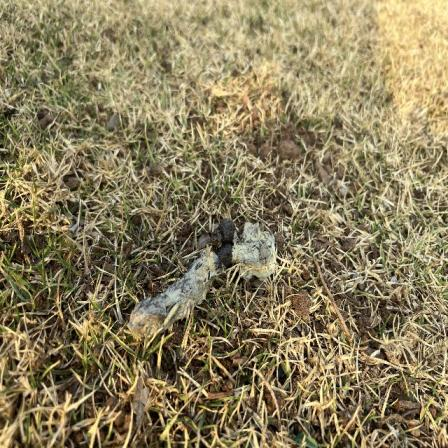dog-poop: (128, 208, 280, 342)
